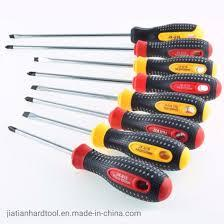screwdriver: (3, 37, 212, 56), (7, 19, 204, 39), (32, 53, 217, 69), (6, 122, 76, 159), (21, 109, 91, 133), (26, 68, 137, 83), (23, 95, 108, 114), (30, 83, 117, 99)
